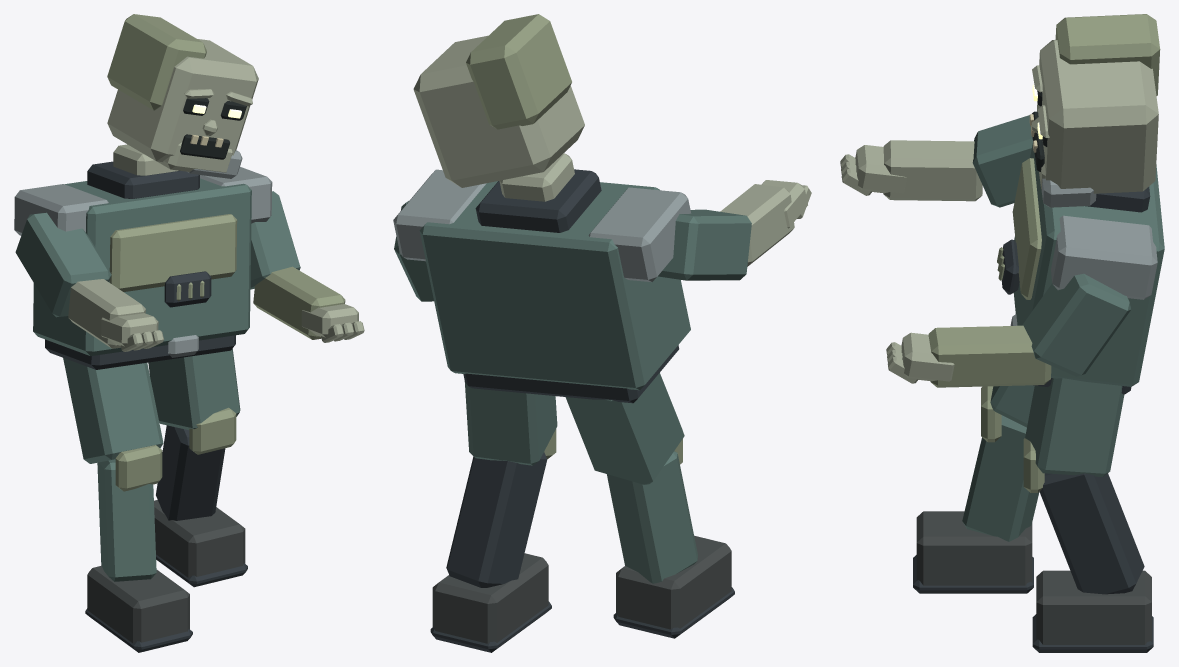
File: zumbi-3.glb
The picture shows the model from 3 angles, left to right: view 1: azimuth 30°, elevation 25°; view 2: azimuth 150°, elevation 25°; view 3: azimuth 270°, elevation 25°; orthographic projection. The views are drawn at different scales.
Visible parts, largest first — view 1: Jaqueta rasgada.003; view 2: Jaqueta rasgada.003; view 3: Jaqueta rasgada.003.
Part boxes in pixels (bbox=[...]): Jaqueta rasgada.003: bbox=[14, 14, 364, 652]; Jaqueta rasgada.003: bbox=[393, 14, 811, 652]; Jaqueta rasgada.003: bbox=[840, 14, 1164, 652].
Bounding box in the file's own units: 1.13 × 2.18 × 1.06.
